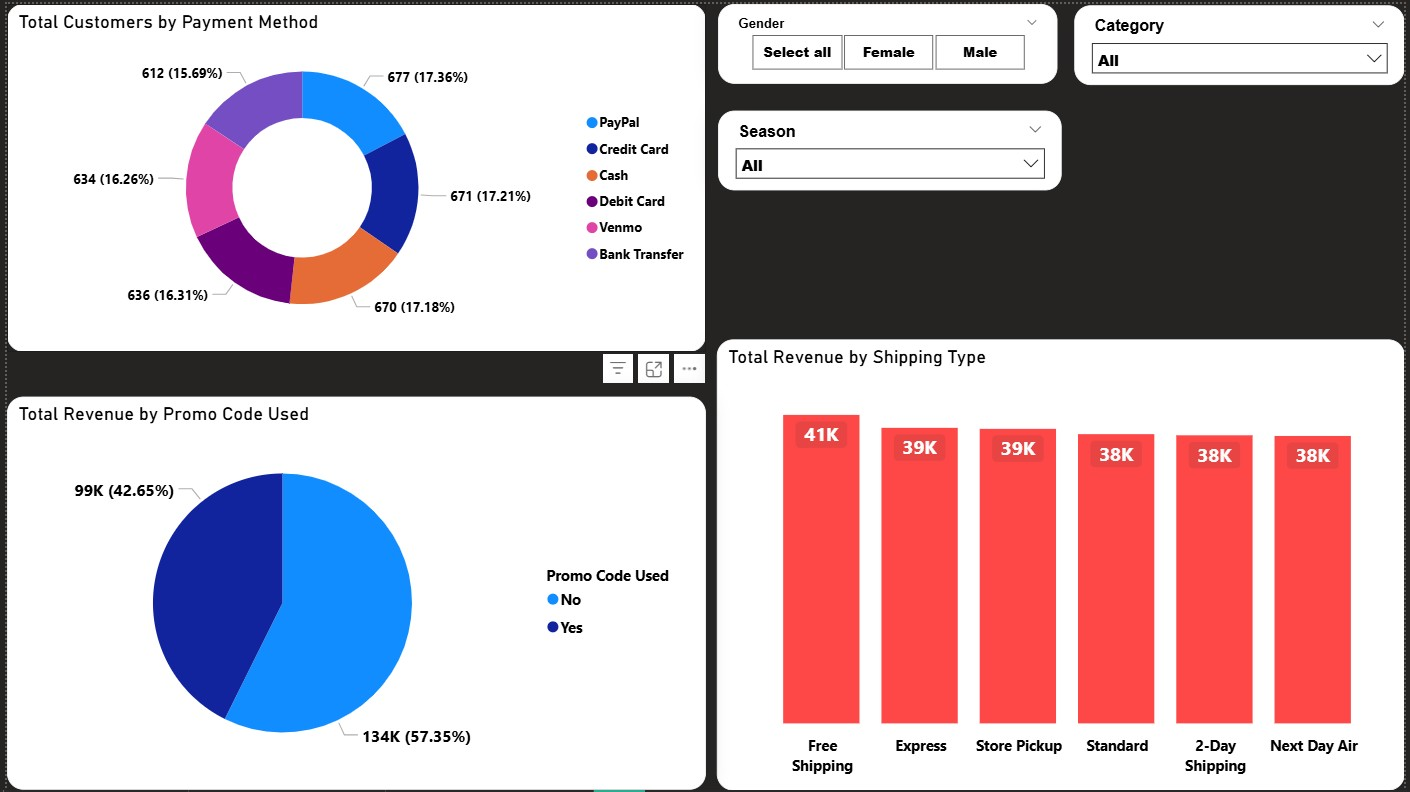

Layout of this report page (visuals, bound fields, positions):
{"tool":"powerbi","page":{"name":"Marketing & Shipping","canvas":[1280,720],"ordinal":2},"visuals":[{"type":"donutChart","fields":{"Category":["shopping_behavior_updated.Payment Method"],"Y":["shopping_behavior_updated.Total Customers"]},"box":[0,0,640,318.7],"z":0},{"type":"clusteredColumnChart","fields":{"Category":["shopping_behavior_updated.Shipping Type"],"Y":["shopping_behavior_updated.Total Revenue"]},"box":[650,307.1,630,412.9],"z":1000},{"type":"pieChart","fields":{"Category":["shopping_behavior_updated.Promo Code Used"],"Y":["shopping_behavior_updated.Total Revenue"]},"box":[0,360,640,360],"z":2000},{"type":"slicer","fields":{"Values":["shopping_behavior_updated.Season"]},"box":[650.7,97.3,314.7,73.3],"z":3000},{"type":"slicer","fields":{"Values":["shopping_behavior_updated.Gender"]},"box":[650.7,0,310.7,73.3],"z":4000},{"type":"slicer","fields":{"Values":["shopping_behavior_updated.Category"]},"box":[977.3,1.3,302.7,73.3],"z":5000}]}

Visuals, with their boxes in screenshot pixels (x1, y1, x2, y2), scaled from the page's 1280x720 canvas onto the 1410x792 screenshot:
donutChart - shopping_behavior_updated.Payment Method x shopping_behavior_updated.Total Customers: <box>0,0,705,351</box>
clusteredColumnChart - shopping_behavior_updated.Shipping Type x shopping_behavior_updated.Total Revenue: <box>716,338,1409,791</box>
pieChart - shopping_behavior_updated.Promo Code Used x shopping_behavior_updated.Total Revenue: <box>0,396,705,791</box>
slicer - shopping_behavior_updated.Season: <box>717,107,1063,188</box>
slicer - shopping_behavior_updated.Gender: <box>717,0,1059,81</box>
slicer - shopping_behavior_updated.Category: <box>1077,1,1409,82</box>
